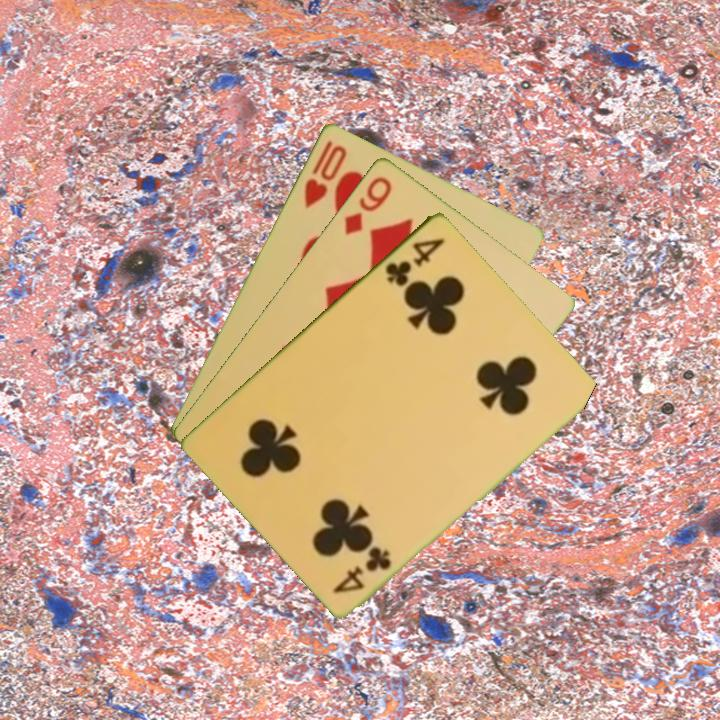10h: (300, 136, 350, 210)
4c: (381, 233, 447, 289), (329, 544, 395, 596)
9d: (340, 172, 395, 237)
